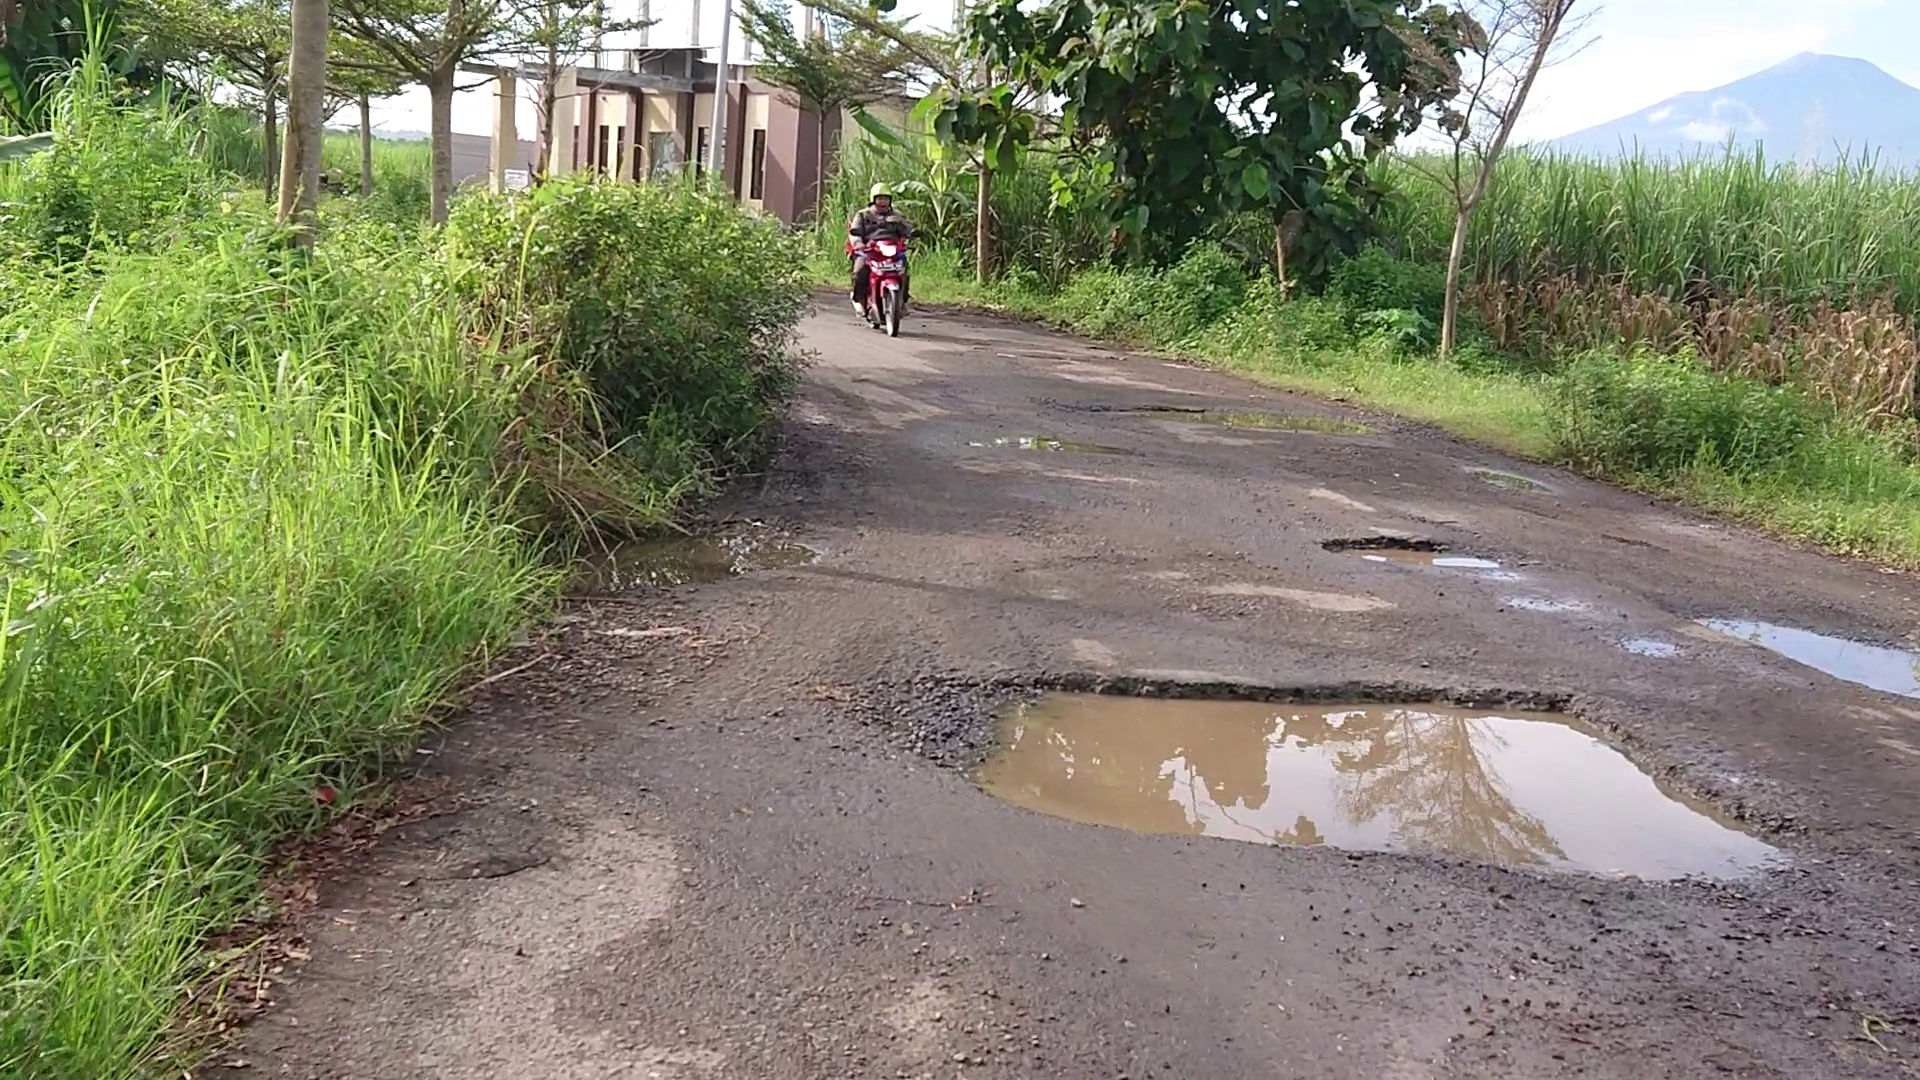Berlubang: (996, 678, 1750, 878), (1701, 611, 1920, 699), (1145, 402, 1382, 443), (1325, 538, 1509, 574)
